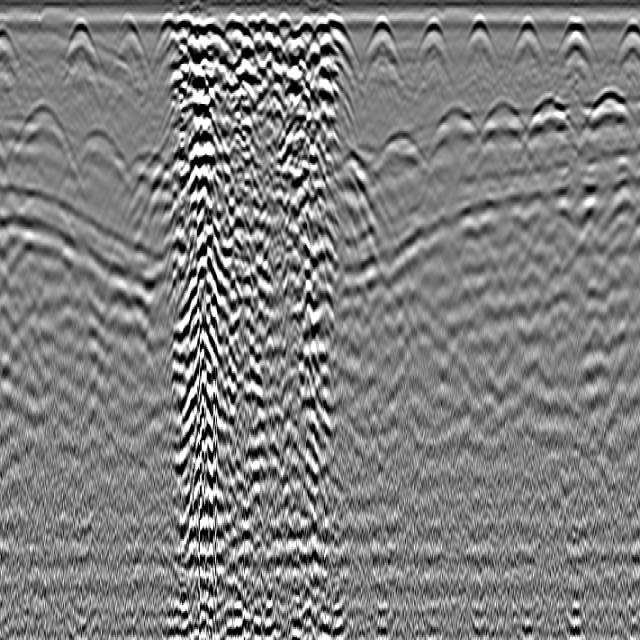hyperbola: (6, 101, 85, 177), (71, 127, 128, 166), (61, 20, 105, 66), (583, 90, 639, 126), (363, 20, 406, 65), (556, 22, 599, 63), (482, 100, 529, 132), (523, 95, 566, 129), (328, 21, 360, 66), (508, 21, 546, 58), (379, 131, 427, 160), (416, 23, 453, 57), (436, 108, 481, 135), (465, 20, 497, 54), (116, 20, 144, 52), (614, 24, 639, 56), (0, 28, 20, 61)
